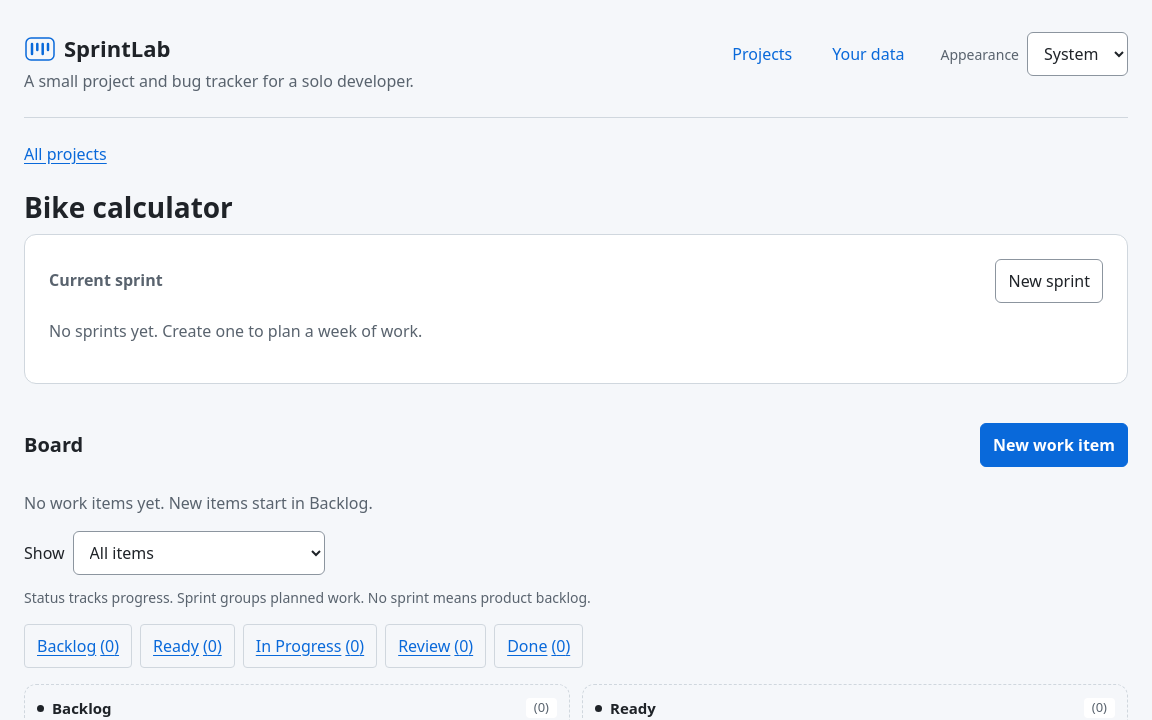
Sprints › creates a planned sprint with a goal and dates, and saves it
The image size is (1152, 720).
Click the button "New sprint" at (1049,281), box [996,259,1103,303]
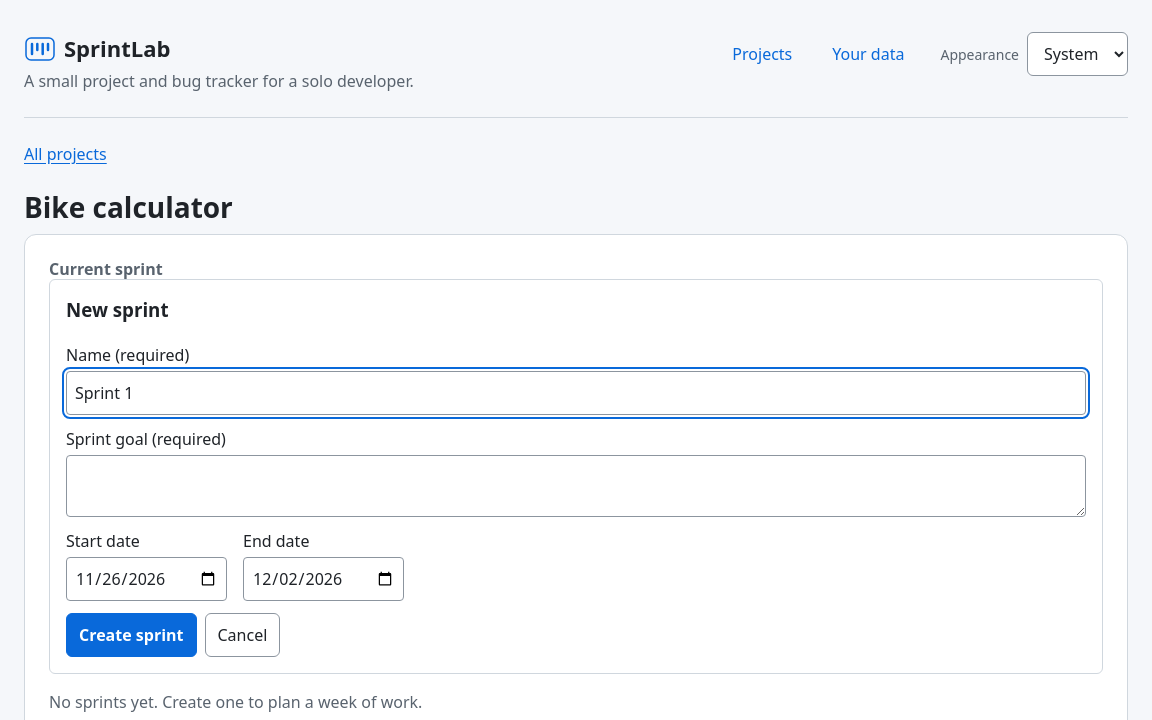
Type "Board works end to end" into the text box labelled "Sprint goal (required)" at (576,486), box [66,455,1086,517]
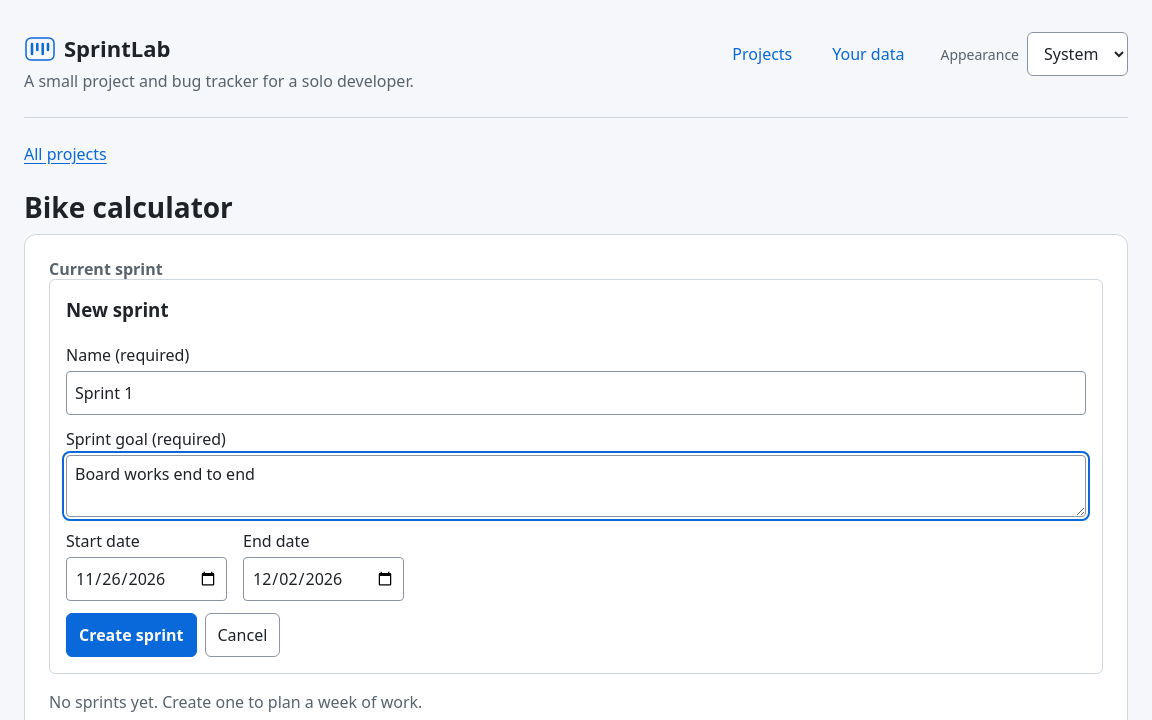
Type "2026-11-16" into the date field labelled "Start date" at (146,579), box [66,557,227,601]
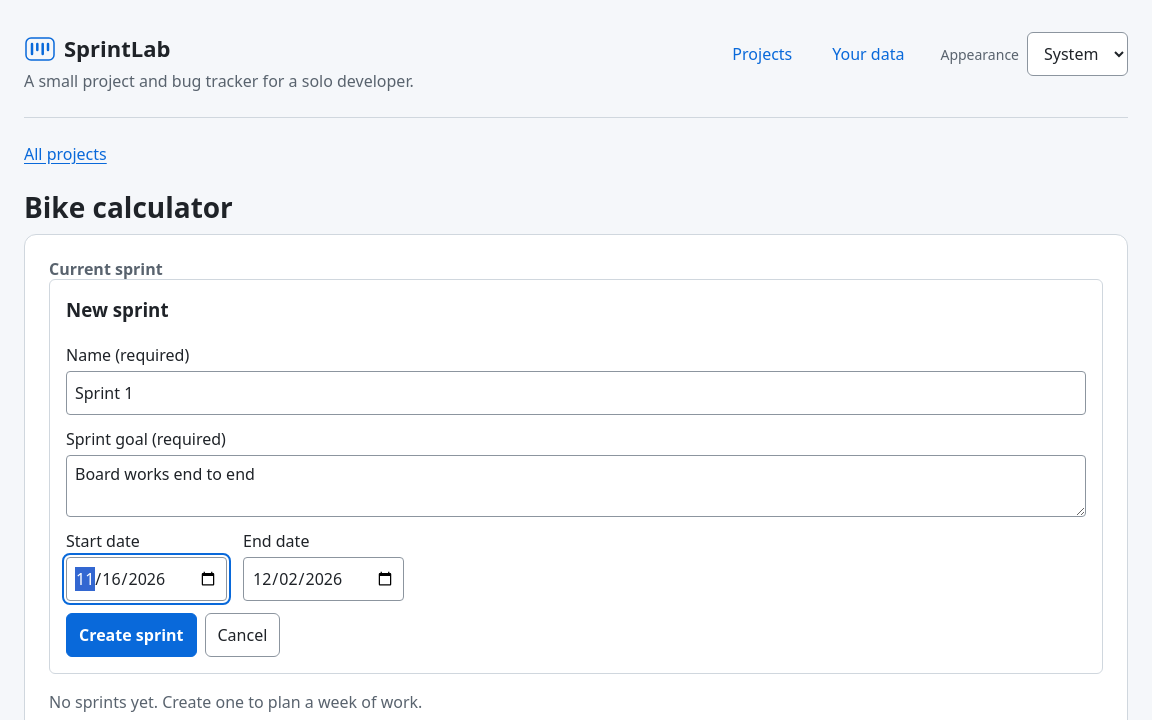
Type "2026-11-22" into the date field labelled "End date" at (324,579), box [243,557,404,601]
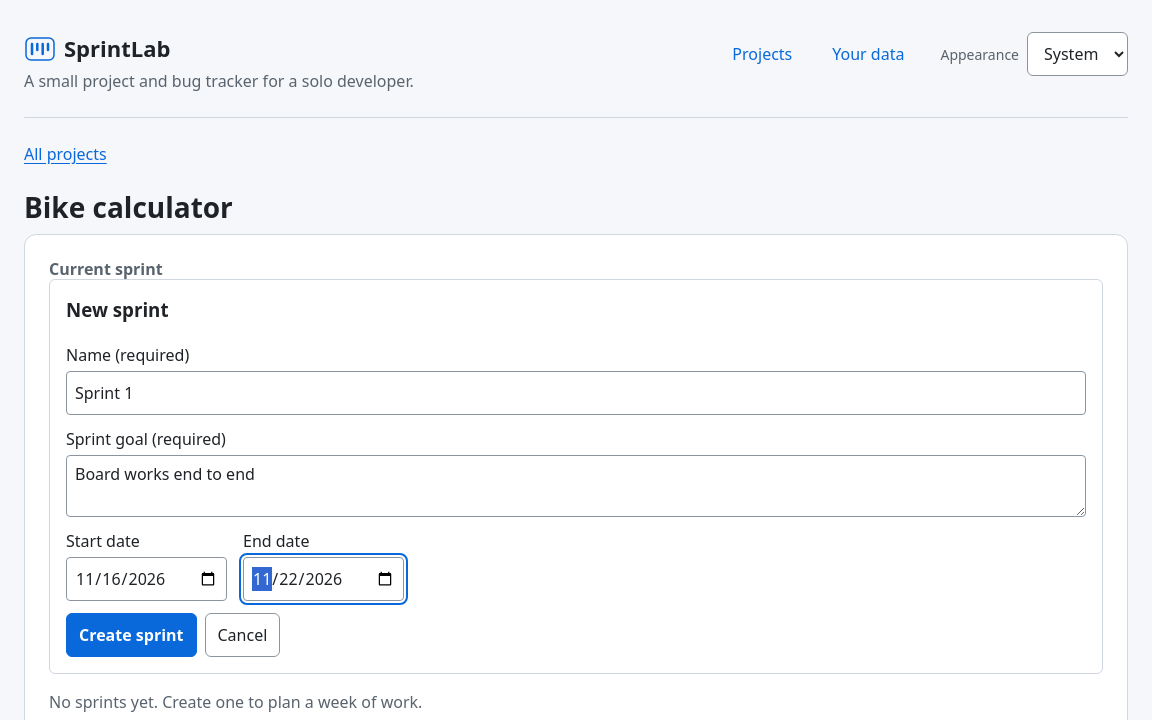
Click the button "Create sprint" at (131,635), box [66,613,196,657]
(page scrolled)
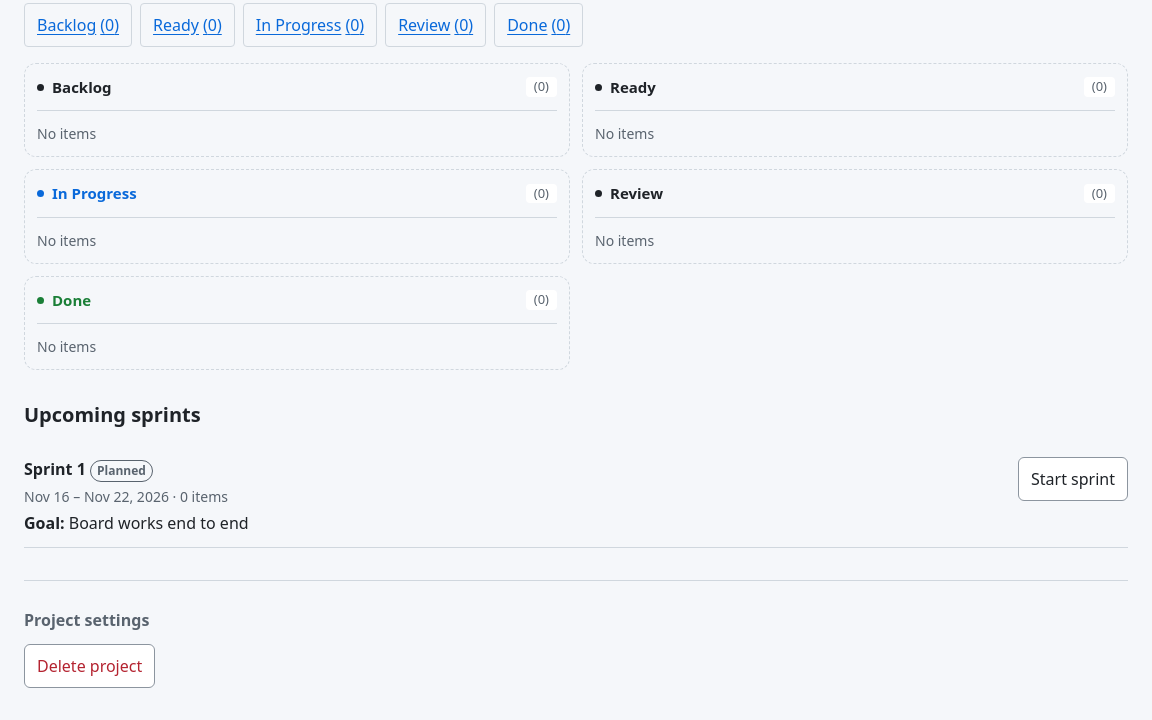
Check: the heading "Sprint 1 Planned" is shown, box [24,458,153,482]
Check: the text "Nov 16 – Nov 22, 2026 · 0 items" is shown, box [24,486,228,506]
Check: the text "Board works end to end" is shown, box [69,512,249,534]
